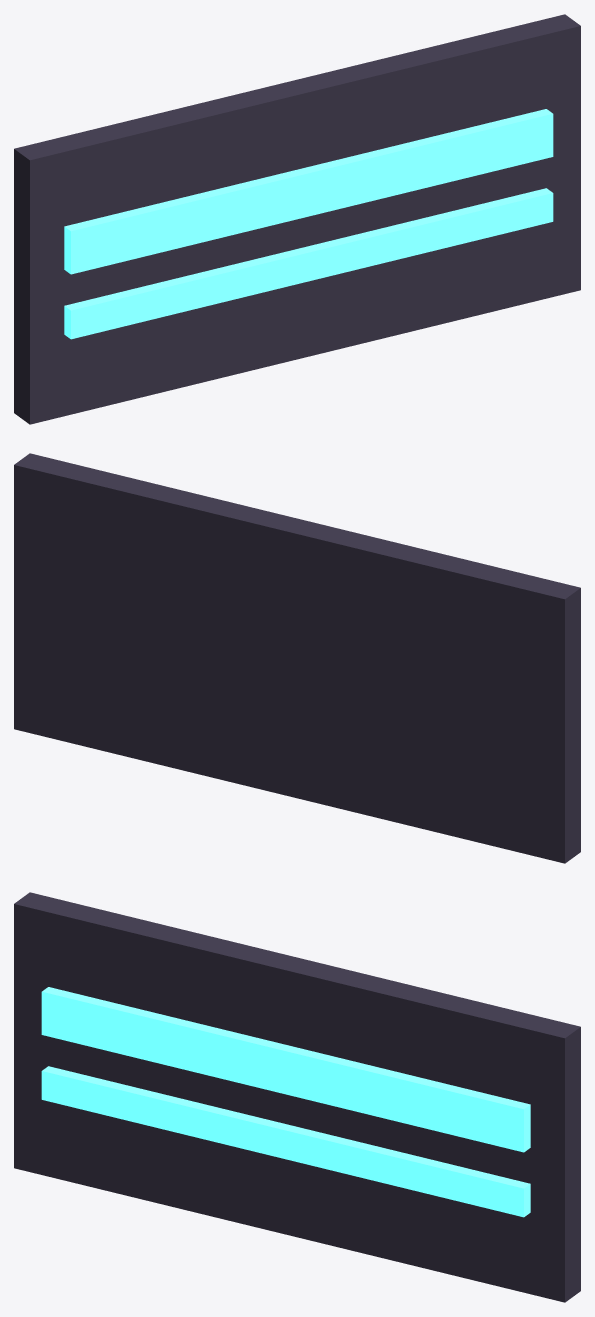
File: neon_sign.glb
3 renders of one model, top to bottom at view 1: azimuth 30°, elevation 25°; view 2: azimuth 150°, elevation 25°; view 3: azimuth 330°, elevation 25°, orthographic.
Visible parts, largest first — view 1: neon_sign; view 2: neon_sign; view 3: neon_sign.
Part boxes in pixels (box(x1,y1,x2,y2)): neon_sign: box(14, 14, 580, 424); neon_sign: box(14, 453, 580, 863); neon_sign: box(14, 892, 580, 1302).
Size of the model in its own units: 2.4 by 1.1 by 0.17.
